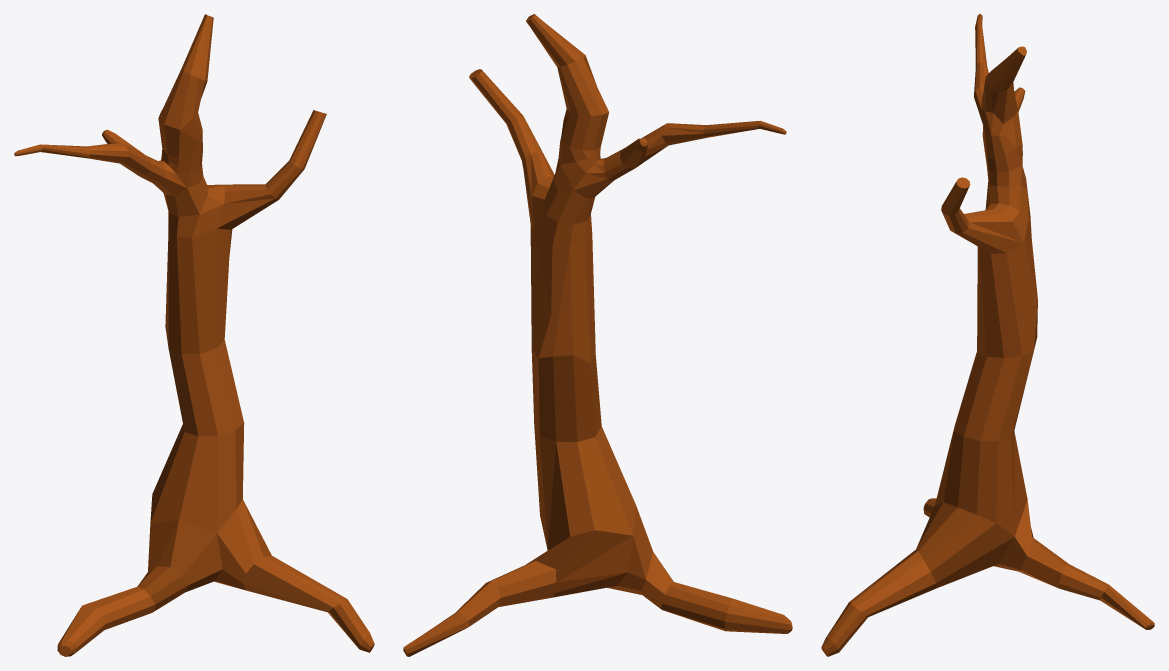
File: TreeTrunk_48.fbx
The picture shows the model from 3 angles, left to right: view 1: azimuth 30°, elevation 25°; view 2: azimuth 150°, elevation 25°; view 3: azimuth 270°, elevation 25°; orthographic projection. The views are drawn at different scales.
Parts seen in each view (by area): view 1: TreeTrunk_48; view 2: TreeTrunk_48; view 3: TreeTrunk_48.
Part boxes in pixels (x1=…): TreeTrunk_48: x1=14, y1=14, x2=374, y2=656; TreeTrunk_48: x1=403, y1=14, x2=792, y2=656; TreeTrunk_48: x1=821, y1=14, x2=1154, y2=656.
Bounding box in the file's own units: 251 × 462 × 241.
